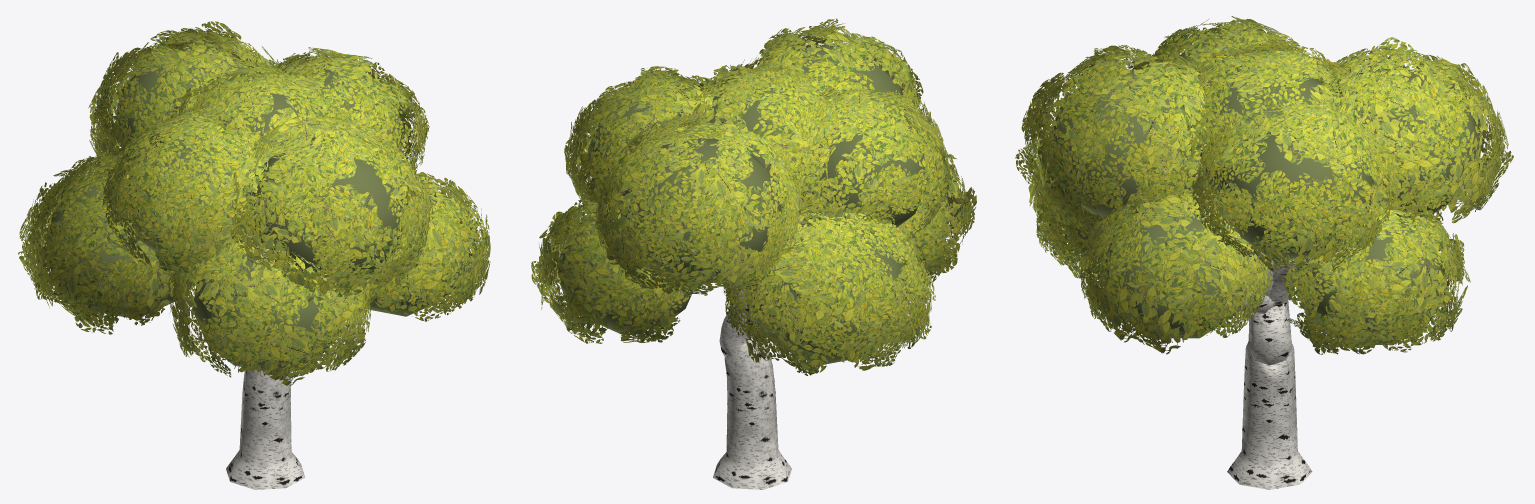
The model's file is tree_birch_3.glb.
3 renders of one model, left to right at view 1: azimuth 30°, elevation 25°; view 2: azimuth 150°, elevation 25°; view 3: azimuth 270°, elevation 25°, orthographic. The views are drawn at different scales.
Parts seen in each view (by area): view 1: Leaves, CrownCore, Trunk; view 2: Leaves, CrownCore, Trunk; view 3: Leaves, CrownCore, Trunk.
Boxes of the visible parts, box(x1,y1,x2,y2) form: Leaves: box(18, 21, 490, 385); CrownCore: box(50, 47, 466, 373); Trunk: box(226, 369, 305, 489); Leaves: box(531, 18, 976, 375); CrownCore: box(557, 43, 950, 364); Trunk: box(713, 219, 807, 489); Leaves: box(1015, 16, 1513, 354); CrownCore: box(1048, 38, 1483, 344); Trunk: box(1196, 201, 1312, 489).
Bounding box in the file's own units: 4.87 × 5.02 × 5.45.
Materials: 3 (2 with a texture image).
